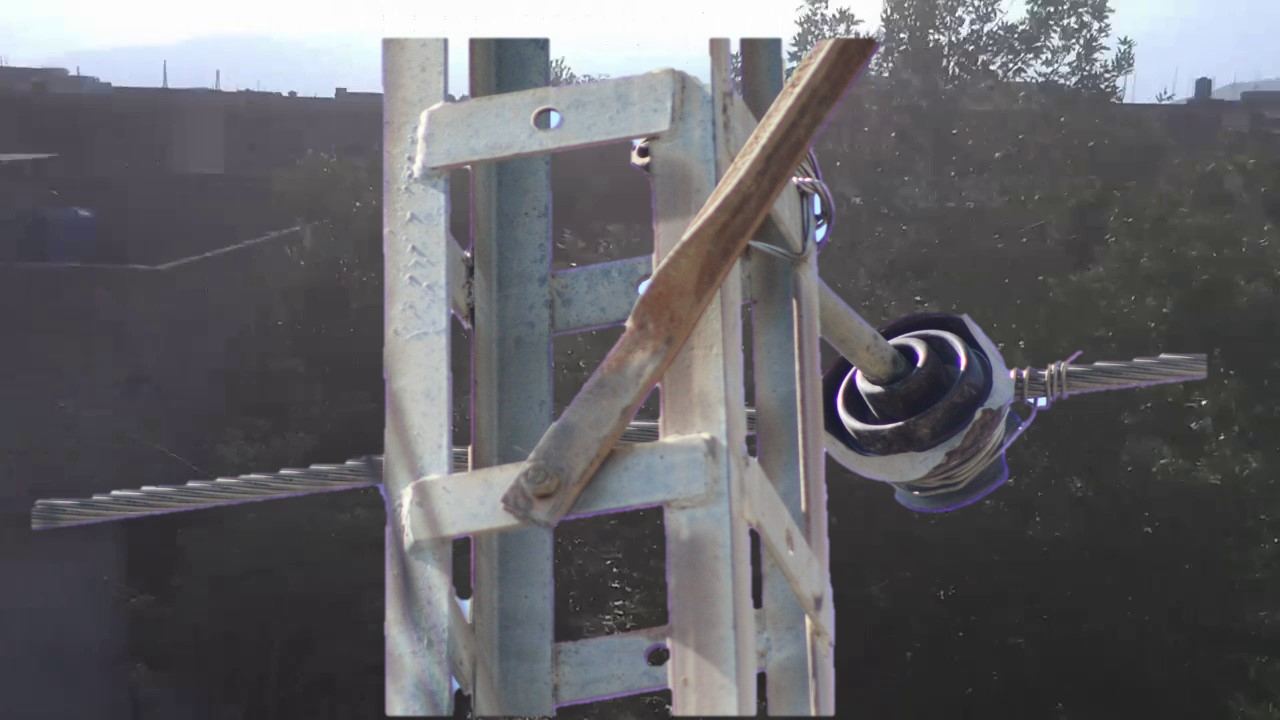defect_pin: (817, 302, 1025, 525)
